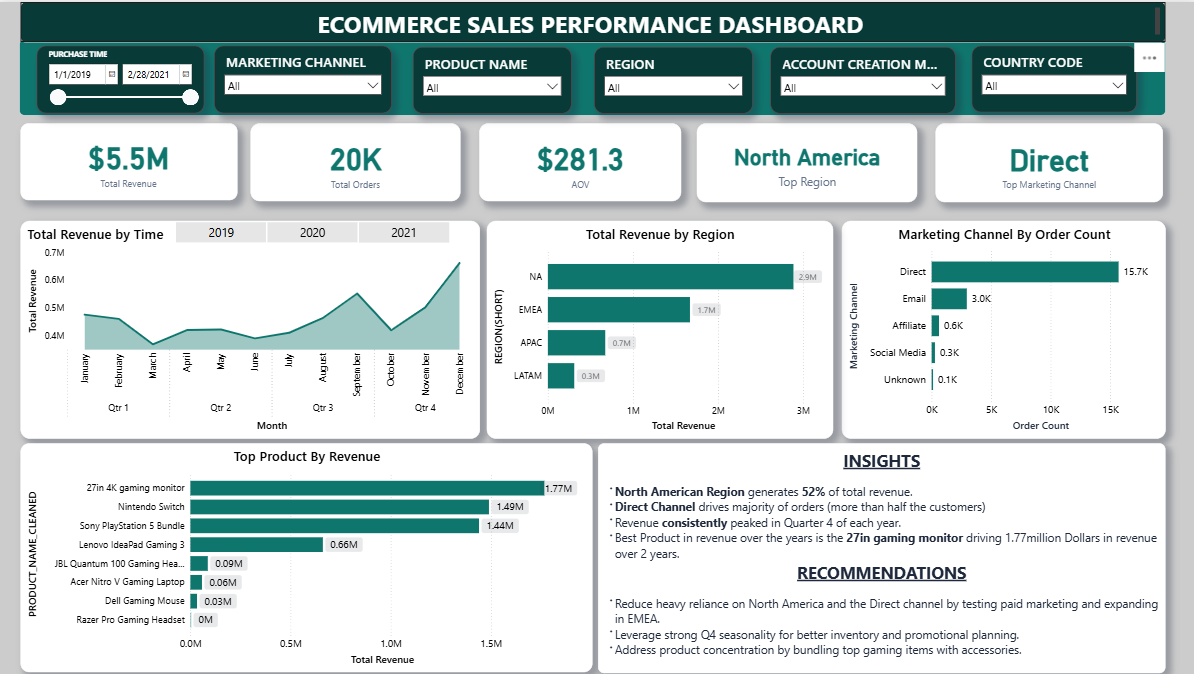

The dashboard page shown, as its layout file describes it:
{"tool":"powerbi","page":{"name":"Page 1","canvas":[1920,1080],"ordinal":0},"visuals":[{"type":"card","title":"Total Revenue","fields":{"Values":["Orders.Total Revenue"]},"box":[35.9,193.8,346.9,123.4],"z":0},{"type":"card","title":"Total Orders","fields":{"Values":["Orders.Total Orders"]},"box":[404.7,193.8,335.9,125],"z":1000},{"type":"card","title":"Average Order Value","fields":{"Values":["Orders.AOV"]},"box":[770.3,193.8,323.4,125],"z":2000},{"type":"card","fields":{"Values":["Orders.Top Region"]},"box":[1118.8,193.8,353.1,126.6],"z":3000},{"type":"card","fields":{"Values":["Orders.Top Marketing Channel"]},"box":[1500,193.8,364.1,126.6],"z":4000},{"type":"areaChart","title":"Total Revenue by Time","fields":{"Category":["Orders.PURCHASE_TS_CLEANED.Variation.Date Hierarchy.Quarter","Orders.PURCHASE_TS_CLEANED.Variation.Date Hierarchy.Month"],"Y":["Orders.Total Revenue"]},"box":[35.8,350.5,734.9,348.7],"z":5000},{"type":"barChart","title":"Marketing Channel By Order Count","fields":{"Category":["Orders.MARKETING_CHANNEL_CLEANED"],"Y":["CountNonNull(Orders.ORDER_ID)"]},"box":[1350,350.5,518.5,348.7],"z":6000},{"type":"clusteredBarChart","title":"Total Revenue by Region","fields":{"Category":["Orders.REGION(SHORT)"],"Y":["Orders.Total Revenue"]},"box":[781.4,350.5,554.3,348.7],"z":7000},{"type":"barChart","title":"Top Product By Revenue","fields":{"Category":["Orders.PRODUCT_NAME_CLEANED"],"Y":["Orders.Total Revenue"]},"box":[35.8,706.3,915.5,366.5],"z":8000},{"type":"textbox","box":[34.1,61,1834.1,122],"z":9000},{"type":"slicer","title":"TIME","fields":{"Values":["Orders.PURCHASE_TS_CLEANED"]},"box":[75,70.1,269,108],"z":10000},{"type":"slicer","title":"REGION","fields":{"Values":["Orders.REGION"]},"box":[953.3,71.8,253.3,106.7],"z":11000},{"type":"slicer","title":"PRODUCT NAME","fields":{"Values":["Orders.PRODUCT_NAME_CLEANED"]},"box":[663.3,71.8,253.3,106.7],"z":12000},{"type":"slicer","title":"MARKETING CHANNEL","fields":{"Values":["Orders.MARKETING_CHANNEL_CLEANED"]},"box":[383,70.1,247,108],"z":13000},{"type":"slicer","title":"ACCOUNT CREATION METHOD","fields":{"Values":["Orders.ACCOUNT_CREATION_METHOD_CLEANED"]},"box":[1236.7,71.8,263.3,106.7],"z":14000},{"type":"slicer","title":"COUNTRY CODE","fields":{"Values":["Orders.COUNTRY_CODE_CLEANED"]},"box":[1538.6,70.1,247.7,106.8],"z":15000},{"type":"textbox","box":[35.3,0,1832.4,64.7],"z":16000},{"type":"slicer","fields":{"Values":["Orders.YEAR"]},"box":[264.1,350,476.6,34.4],"z":18000},{"type":"textbox","box":[960.2,706.3,908.3,368.3],"z":19000}]}

Visuals, with their boxes in screenshot pixels (x1, y1, x2, y2), scaled from the page's 1920x1080 canvas onto the 1194x674 screenshot:
"Total Revenue" card: x1=22 y1=121 x2=238 y2=198
"Total Orders" card: x1=252 y1=121 x2=461 y2=199
"Average Order Value" card: x1=479 y1=121 x2=680 y2=199
card - Orders.Top Region: x1=696 y1=121 x2=915 y2=200
card - Orders.Top Marketing Channel: x1=933 y1=121 x2=1159 y2=200
"Total Revenue by Time" areaChart: x1=22 y1=219 x2=479 y2=436
"Marketing Channel By Order Count" barChart: x1=840 y1=219 x2=1162 y2=436
"Total Revenue by Region" clusteredBarChart: x1=486 y1=219 x2=831 y2=436
"Top Product By Revenue" barChart: x1=22 y1=441 x2=592 y2=670
textbox: x1=21 y1=38 x2=1162 y2=114
"TIME" slicer: x1=47 y1=44 x2=214 y2=111
"REGION" slicer: x1=593 y1=45 x2=750 y2=111
"PRODUCT NAME" slicer: x1=412 y1=45 x2=570 y2=111
"MARKETING CHANNEL" slicer: x1=238 y1=44 x2=392 y2=111
"ACCOUNT CREATION METHOD" slicer: x1=769 y1=45 x2=933 y2=111
"COUNTRY CODE" slicer: x1=957 y1=44 x2=1111 y2=110
textbox: x1=22 y1=0 x2=1161 y2=40
slicer - Orders.YEAR: x1=164 y1=218 x2=461 y2=240
textbox: x1=597 y1=441 x2=1162 y2=671
